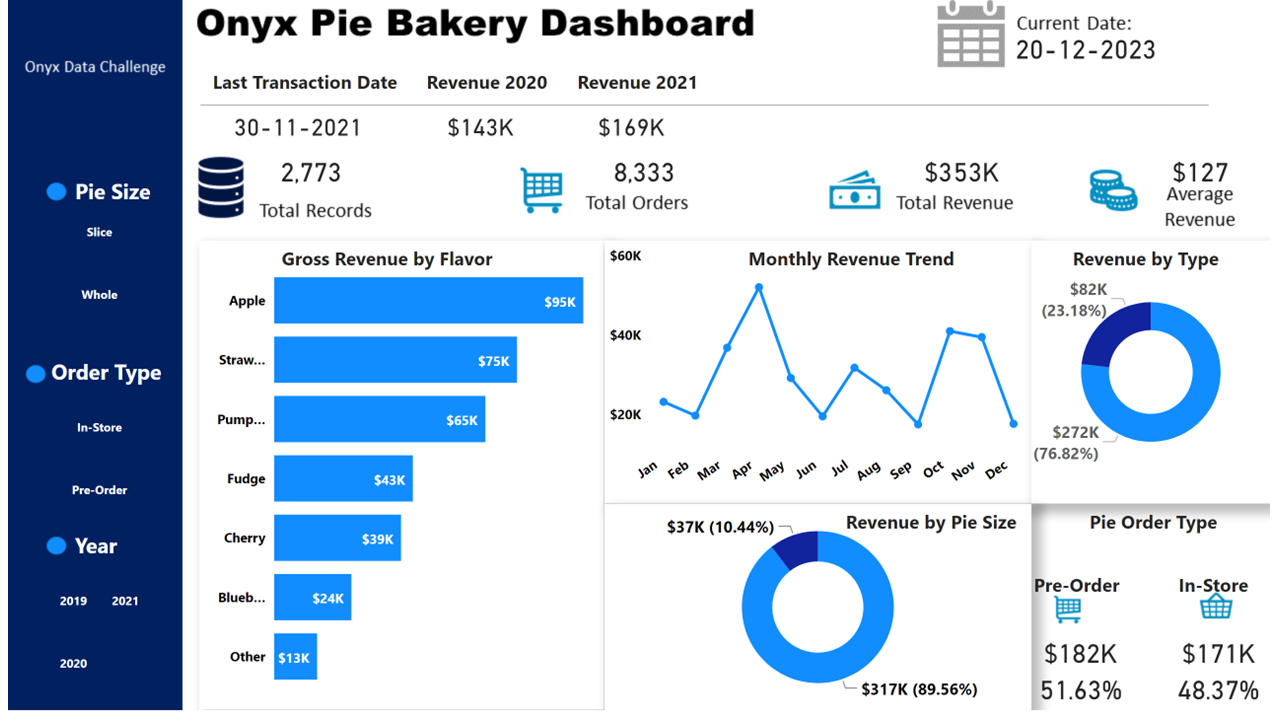

Layout of this report page (visuals, bound fields, positions):
{"tool":"powerbi","page":{"name":"Page 1","canvas":[1280,720],"ordinal":0},"visuals":[{"type":"textbox","box":[194.2,64.7,214.6,42.5],"z":0},{"type":"card","fields":{"Values":["Calculated Measures (2).Last Transaction Date"]},"box":[210.9,107.3,166.5,42.5],"z":1000},{"type":"card","fields":{"Values":["Calculated Measures (2).Current Date"]},"box":[1009.9,33.3,166.5,31.4],"z":2000},{"type":"textbox","box":[408.8,64.7,153.5,42.5],"z":3000},{"type":"card","fields":{"Values":["Calculated Measures (2).Revenue 2020"]},"box":[408.8,107.3,140.6,42.5],"z":4000},{"type":"textbox","box":[562.3,64.7,153.5,42.5],"z":5000},{"type":"card","fields":{"Values":["Calculated Measures (2).Revenue 2021"]},"box":[562.3,107.3,140.6,42.5],"z":6000},{"type":"card","fields":{"Values":["Calculated Measures (2).Total Records"]},"box":[236.8,151.7,140.6,42.5],"z":7000},{"type":"card","fields":{"Values":["Calculated Measures (2).Total Quantity"]},"box":[575.3,151.7,140.6,42.5],"z":8000},{"type":"card","fields":{"Values":["Calculated Measures (2).Total Revenue"]},"box":[897.1,151.7,140.6,42.5],"z":9000},{"type":"card","fields":{"Values":["Calculated Measures (2).Average Revenue"]},"box":[1139.4,151.7,140.6,42.5],"z":10000},{"type":"barChart","fields":{"Y":["Calculated Measures (2).Total Revenue"],"Category":["Dim_Pie Flavor.Pie Flavor"]},"box":[194.2,244.2,410.6,475.4],"z":11000},{"type":"textbox","box":[194.2,244.2,381,42.5],"z":12000},{"type":"lineChart","fields":{"Y":["Calculated Measures (2).Total Revenue"],"Category":["Calendar Table.Month"]},"box":[604.9,244.2,432.8,266.4],"z":13000},{"type":"textbox","box":[702.9,244.2,299.7,42.5],"z":14000},{"type":"donutChart","fields":{"Category":["Dim_Pie Kind.Organic?"],"Y":["Calculated Measures (2).Total Revenue"]},"box":[1037.7,244.2,242.3,266.4],"z":15000},{"type":"textbox","box":[1037.7,244.2,242.3,42.5],"z":16000},{"type":"donutChart","fields":{"Y":["Calculated Measures (2).Total Revenue"],"Category":["Dim_Pie Size.Slice Or Whole Pie"]},"box":[604.9,510.5,432.8,209],"z":17000},{"type":"textbox","box":[839.8,510.5,197.9,42.5],"z":18000},{"type":"textbox","box":[1037.7,510.5,242.3,42.5],"z":19000},{"type":"textbox","box":[1022.9,575.3,116.5,40.7],"z":20000},{"type":"textbox","box":[1159.8,575.3,120.2,40.7],"z":21000},{"type":"card","fields":{"Values":["Calculated Measures (2).Revenue Pre-Order"]},"box":[1035.8,640,103.6,42.5],"z":22000},{"type":"card","fields":{"Values":["Calculated Measures (2).Revenue In-Store"]},"box":[1176.4,640,103.6,42.5],"z":23000},{"type":"card","fields":{"Values":["Calculated Measures (2).% Rev Pre-Order"]},"box":[1035.8,677,103.6,42.5],"z":24000},{"type":"card","fields":{"Values":["Calculated Measures (2).% Rev In-Store"]},"box":[1176.4,677,103.6,42.5],"z":25000},{"type":"slicer","fields":{"Values":["Dim_Pie Size.Slice Or Whole Pie"]},"box":[14.8,197.9,153.5,136.9],"z":26000},{"type":"slicer","fields":{"Values":["Dim_Order Type.Pre-Order/In-Store Purchase"]},"box":[14.8,395.8,153.5,136.9],"z":27000},{"type":"textbox","box":[62.9,173.9,105.4,40.7],"z":28000},{"type":"textbox","box":[38.8,357,142.4,42.5],"z":29000},{"type":"slicer","fields":{"Values":["Calendar Table.Year"]},"box":[14.8,571.6,153.5,136.9],"z":30000},{"type":"textbox","box":[62.9,532.7,105.4,42.5],"z":31000},{"type":"shape","box":[38.8,543.8,20.3,18.5],"z":32000},{"type":"shape","box":[18.5,369.9,20.3,18.5],"z":33000},{"type":"shape","box":[38.8,185,20.3,18.5],"z":34000}]}

Visuals, with their boxes in screenshot pixels (x1, y1, x2, y2), scaled from the page's 1280x720 canvas onto the 1280x720 screenshot:
textbox: region(194, 65, 409, 107)
card - Calculated Measures (2).Last Transaction Date: region(211, 107, 377, 150)
card - Calculated Measures (2).Current Date: region(1010, 33, 1176, 65)
textbox: region(409, 65, 562, 107)
card - Calculated Measures (2).Revenue 2020: region(409, 107, 549, 150)
textbox: region(562, 65, 716, 107)
card - Calculated Measures (2).Revenue 2021: region(562, 107, 703, 150)
card - Calculated Measures (2).Total Records: region(237, 152, 377, 194)
card - Calculated Measures (2).Total Quantity: region(575, 152, 716, 194)
card - Calculated Measures (2).Total Revenue: region(897, 152, 1038, 194)
card - Calculated Measures (2).Average Revenue: region(1139, 152, 1279, 194)
barChart - Calculated Measures (2).Total Revenue x Dim_Pie Flavor.Pie Flavor: region(194, 244, 605, 719)
textbox: region(194, 244, 575, 287)
lineChart - Calculated Measures (2).Total Revenue x Calendar Table.Month: region(605, 244, 1038, 511)
textbox: region(703, 244, 1003, 287)
donutChart - Dim_Pie Kind.Organic? x Calculated Measures (2).Total Revenue: region(1038, 244, 1279, 511)
textbox: region(1038, 244, 1279, 287)
donutChart - Calculated Measures (2).Total Revenue x Dim_Pie Size.Slice Or Whole Pie: region(605, 510, 1038, 719)
textbox: region(840, 510, 1038, 553)
textbox: region(1038, 510, 1279, 553)
textbox: region(1023, 575, 1139, 616)
textbox: region(1160, 575, 1279, 616)
card - Calculated Measures (2).Revenue Pre-Order: region(1036, 640, 1139, 682)
card - Calculated Measures (2).Revenue In-Store: region(1176, 640, 1279, 682)
card - Calculated Measures (2).% Rev Pre-Order: region(1036, 677, 1139, 719)
card - Calculated Measures (2).% Rev In-Store: region(1176, 677, 1279, 719)
slicer - Dim_Pie Size.Slice Or Whole Pie: region(15, 198, 168, 335)
slicer - Dim_Order Type.Pre-Order/In-Store Purchase: region(15, 396, 168, 533)
textbox: region(63, 174, 168, 215)
textbox: region(39, 357, 181, 400)
slicer - Calendar Table.Year: region(15, 572, 168, 708)
textbox: region(63, 533, 168, 575)
shape: region(39, 544, 59, 562)
shape: region(18, 370, 39, 388)
shape: region(39, 185, 59, 204)
